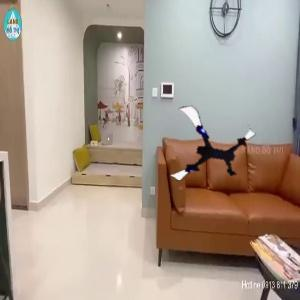drone: (164, 110, 250, 196)
